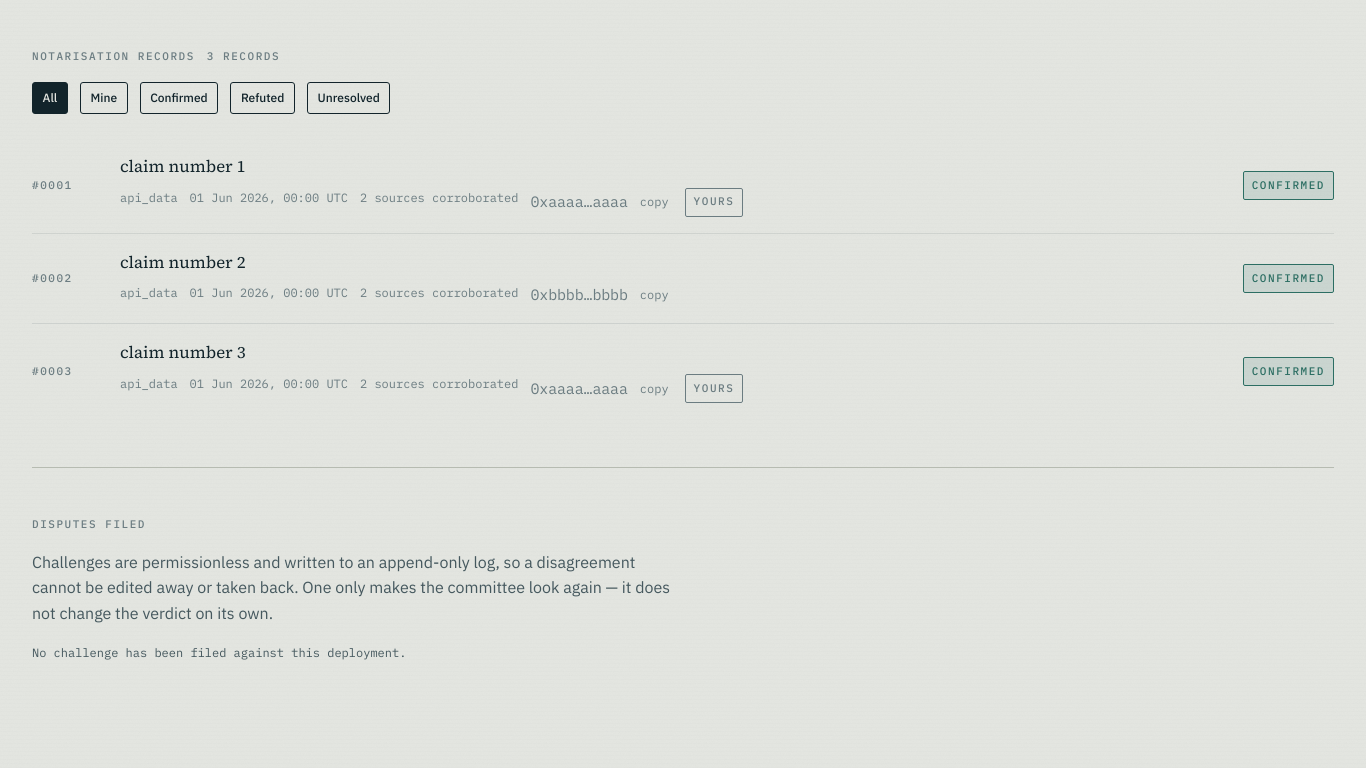
Scenario: Records: Mine filter › shows only records this account submitted
Click the button "Mine" at (104, 98), box left=80, top=82, right=128, bottom=114
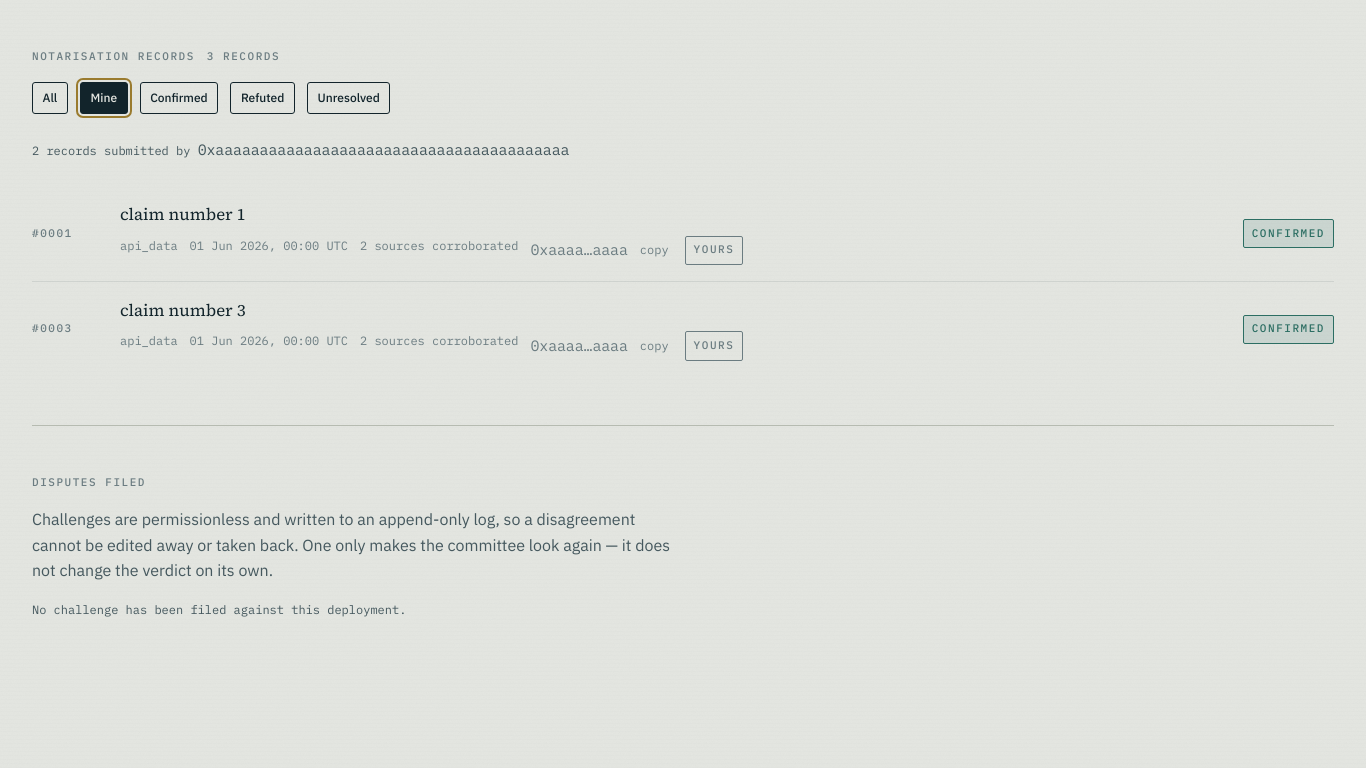
Expected: the text "claim number 1" is shown, left=120, top=203, right=246, bottom=226
Expected: the link "claim number 2" is gone
